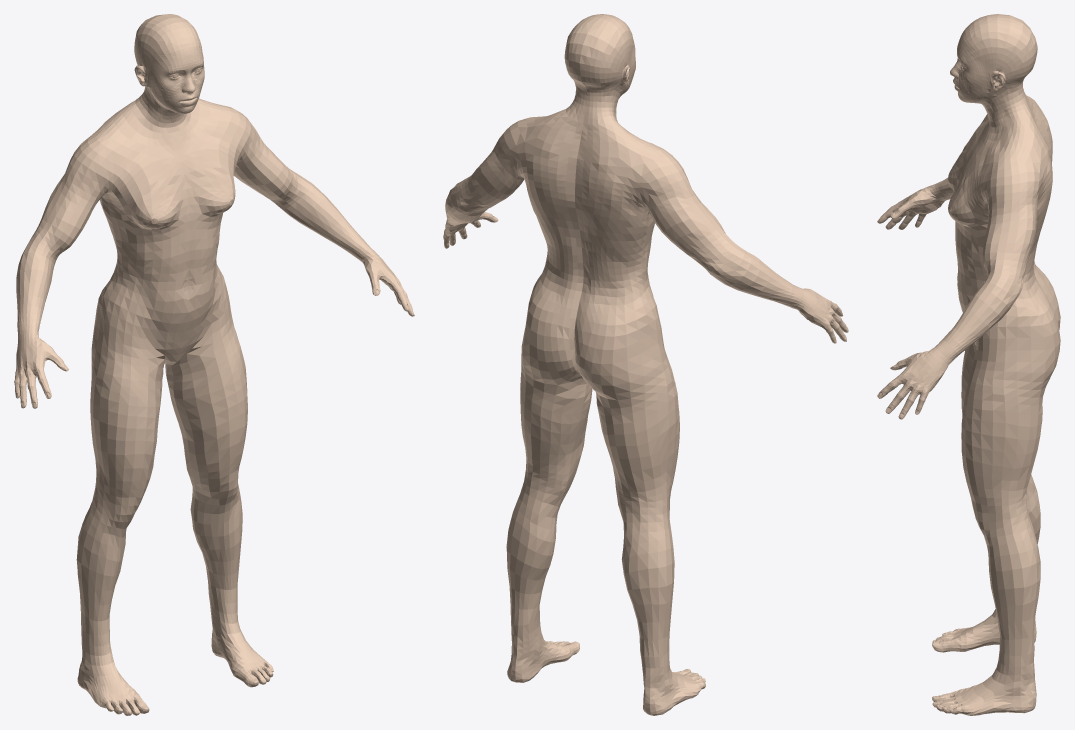
Rendered from female-adult-heavy-high.glb.
3 views of the same model, side by side, from view 1: azimuth 30°, elevation 25°; view 2: azimuth 150°, elevation 25°; view 3: azimuth 270°, elevation 25° (orthographic).
Visible parts, largest first — view 1: world; view 2: world; view 3: world.
Boxes of the visible parts, box(x1,y1,x2,y2) form: world: box(14, 14, 414, 715); world: box(443, 14, 848, 715); world: box(877, 14, 1060, 715).
Size of the model in its own units: 1.13 by 1.82 by 0.4575.
